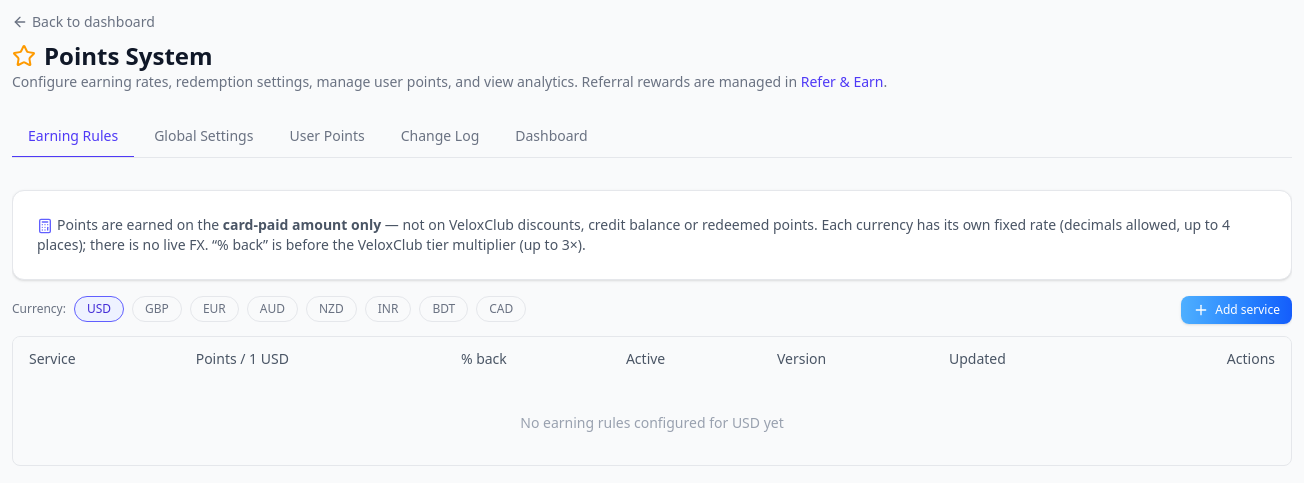
Test: Points → Change Log › uses the friendly labels and "No limit" for 0
Click the button "Change Log".
click(440, 137)  # box x1=385 y1=116 x2=495 y2=158
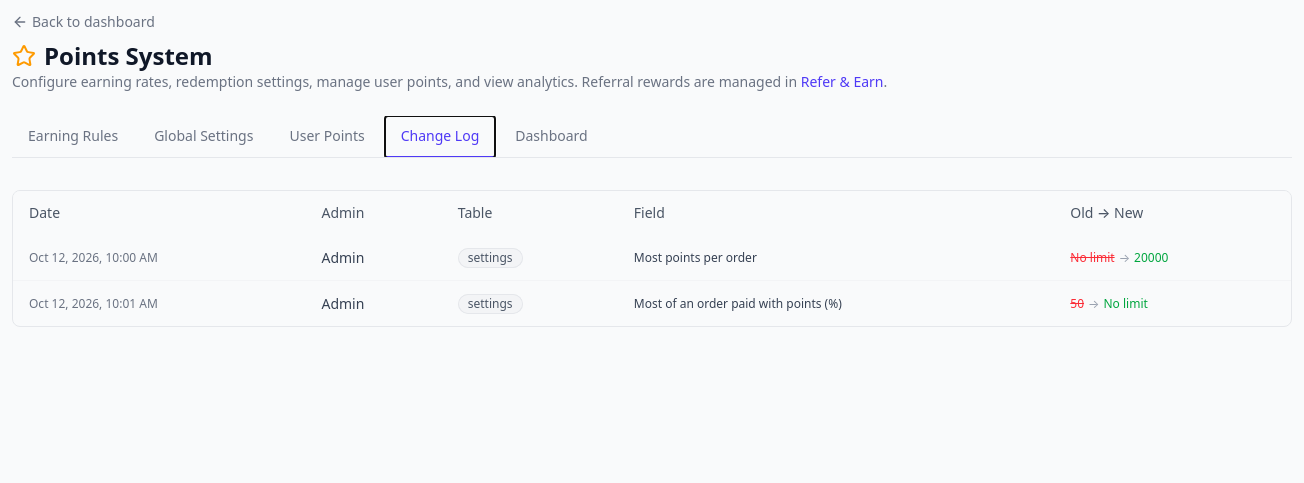
Check: the text "Most points per order" is shown, box x1=618 y1=235 x2=1054 y2=280
Check: the text "Most of an order paid with points (%)" is shown, box x1=618 y1=280 x2=1054 y2=326
Check: the text "No limit" is shown 2 times, box x1=1070 y1=248 x2=1115 y2=266; x1=1104 y1=294 x2=1148 y2=312
